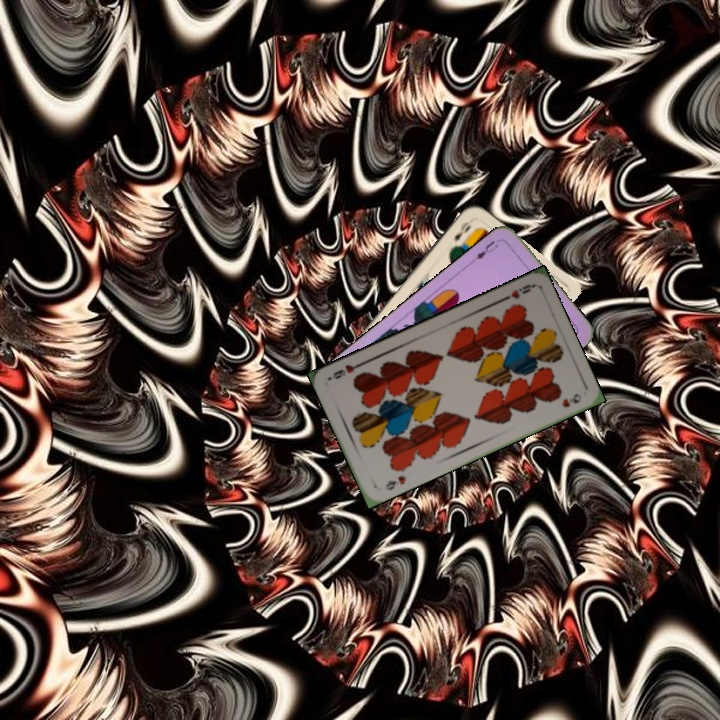EO: (450, 217, 474, 244)
EU: (469, 237, 501, 265)
H9: (497, 280, 536, 304), (381, 471, 408, 493)
